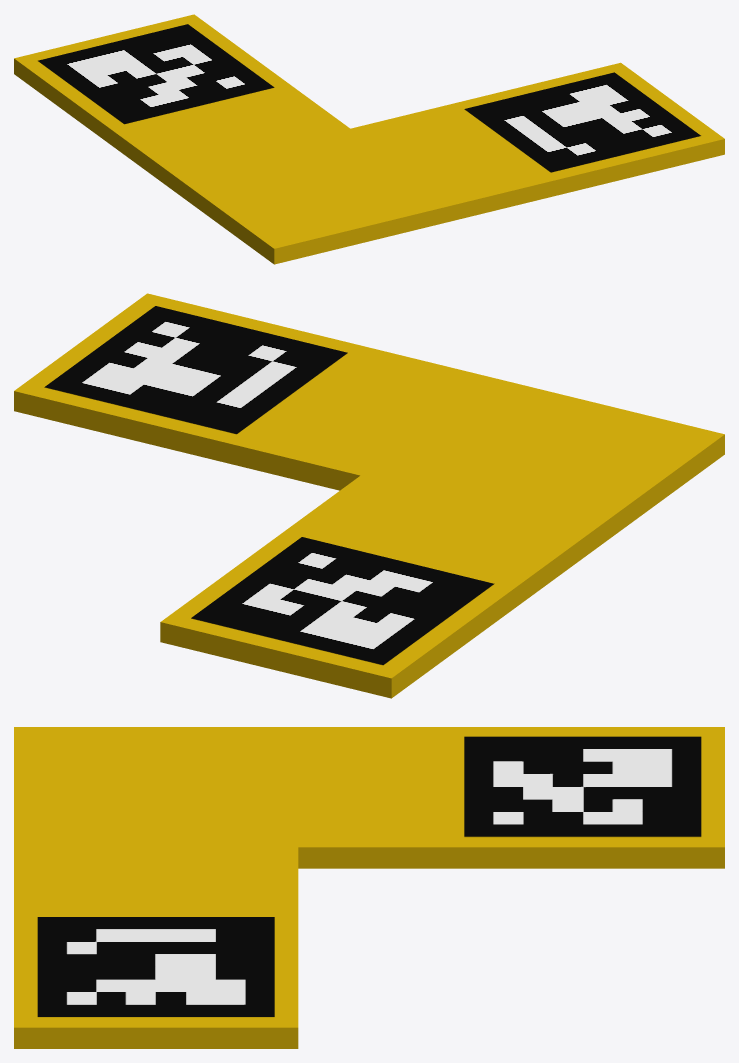
3 views of the same model, one above another, from view 1: azimuth 30°, elevation 25°; view 2: azimuth 150°, elevation 25°; view 3: azimuth 270°, elevation 25° (orthographic). The views are drawn at different scales.
Visible parts, largest first — view 1: Base_Plate; view 2: Base_Plate; view 3: Base_Plate.
Part boxes in pixels (x1=…): Base_Plate: x1=14, y1=14, x2=724, y2=264; Base_Plate: x1=14, y1=293, x2=724, y2=698; Base_Plate: x1=14, y1=727, x2=724, y2=1048.
Size of the model in its own units: 0.15 by 0.15 by 0.0051.
